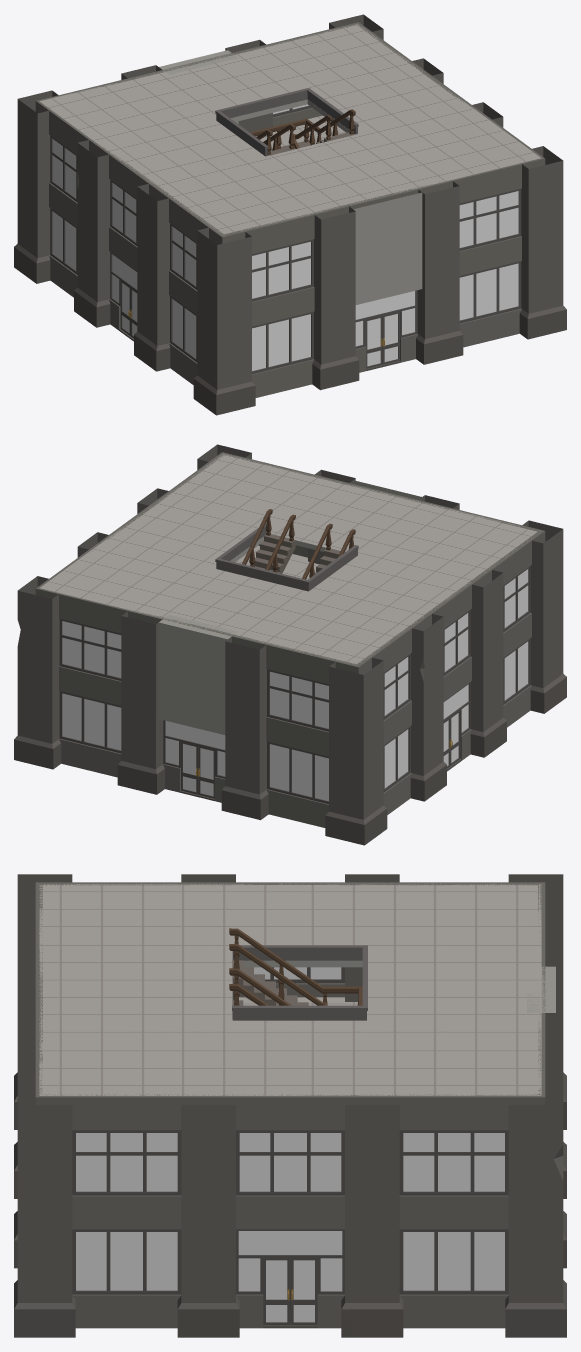
File: SM_Bldg_City_High-Rise_01_Base.fbx
The picture shows the model from 3 angles, top to bottom: view 1: azimuth 30°, elevation 25°; view 2: azimuth 150°, elevation 25°; view 3: azimuth 270°, elevation 25°; orthographic projection. The views are drawn at different scales.
Parts seen in each view (by area): view 1: SM_Bldg_City_High-Rise_01_Base, SM_Bldg_City_High-Rise_01_Base_Glass; view 2: SM_Bldg_City_High-Rise_01_Base, SM_Bldg_City_High-Rise_01_Base_Glass; view 3: SM_Bldg_City_High-Rise_01_Base, SM_Bldg_City_High-Rise_01_Base_Glass.
Part boxes in pixels (x1,y1,x2,y2): SM_Bldg_City_High-Rise_01_Base: (14, 14, 566, 415); SM_Bldg_City_High-Rise_01_Base_Glass: (52, 104, 518, 370); SM_Bldg_City_High-Rise_01_Base: (14, 444, 566, 845); SM_Bldg_City_High-Rise_01_Base_Glass: (62, 569, 528, 800); SM_Bldg_City_High-Rise_01_Base: (14, 874, 566, 1337); SM_Bldg_City_High-Rise_01_Base_Glass: (76, 967, 504, 1291).
Size of the model in its own units: 1520 by 800 by 1520.
